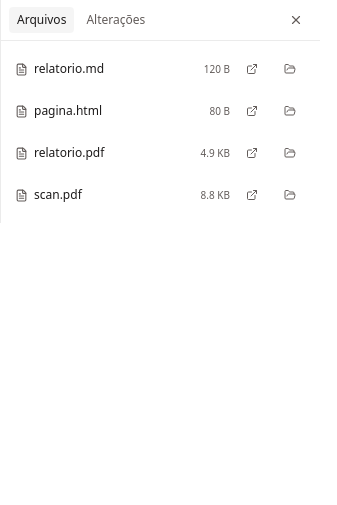
Scenario: work panel › previews the text of a PDF and explains a PDF without text
Click the button "relatorio.pdf": click(114, 153) [34,144,195,162]
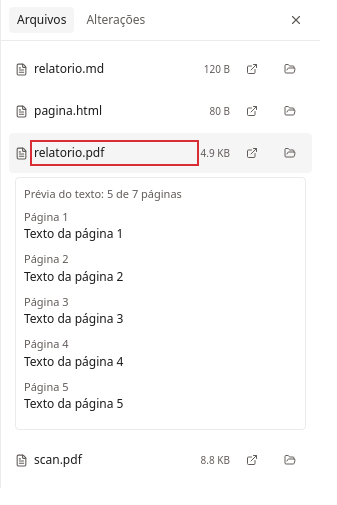
Check: the element named "Prévia de relatorio.pdf" shows "Prévia do texto: 5 de 7 páginas", box [24,186,182,201]
Check: the heading "Página 1" is shown, box [24,208,69,224]
Check: the element named "Prévia de relatorio.pdf" shows "Texto da página 5", box [24,395,123,412]
Click the button "scan.pdf": click(114, 460) [34,451,195,469]
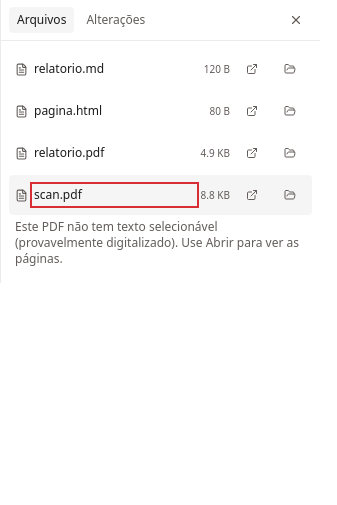
Check: the text "Este PDF não tem texto selecionável (provavelmente digitalizado). Use Abrir para ver as páginas." is shown, box [15,218,299,267]
